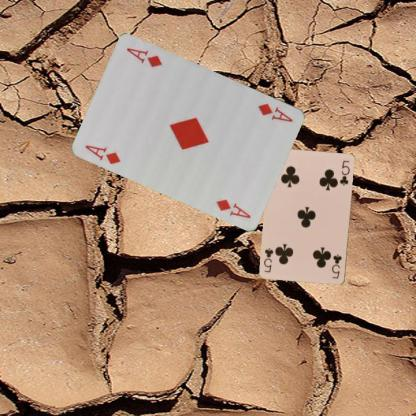5c: (329, 252, 343, 280)
Ad: (255, 100, 295, 124), (82, 142, 122, 165)
